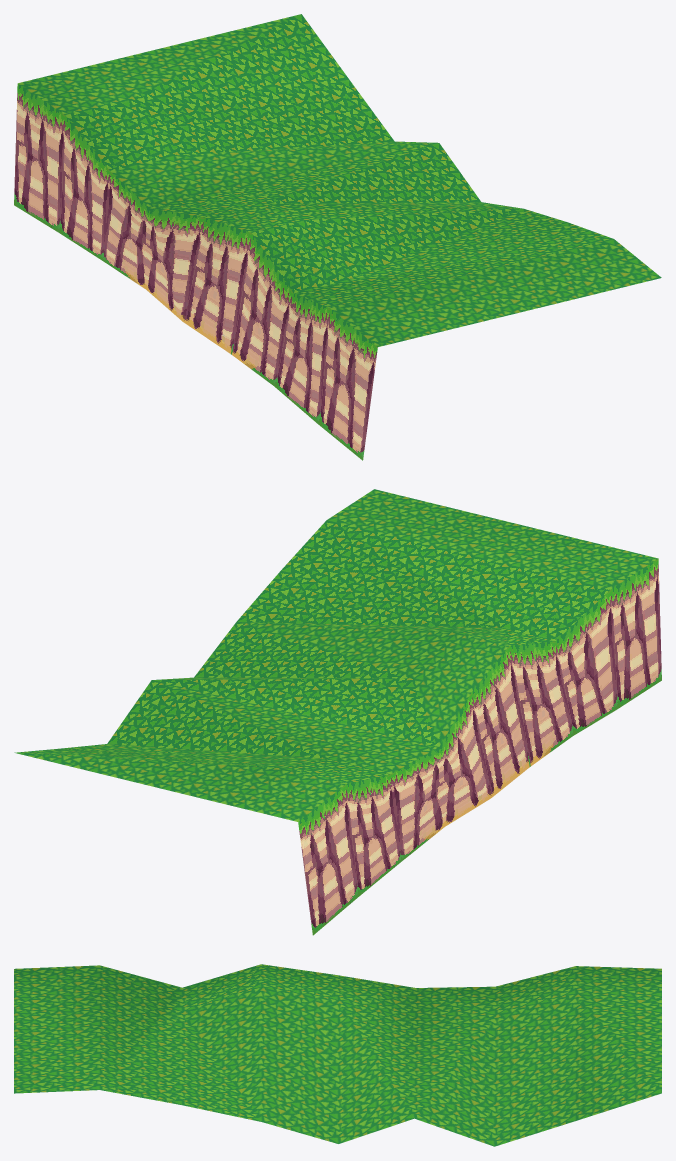
File: c_grd_e3_1.001.glb
The picture shows the model from 3 angles, top to bottom: view 1: azimuth 30°, elevation 25°; view 2: azimuth 150°, elevation 25°; view 3: azimuth 270°, elevation 25°; orthographic projection. The views are drawn at different scales.
Parts seen in each view (by area): view 1: c_grd_e3_1.001; view 2: c_grd_e3_1.001; view 3: c_grd_e3_1.001.
Boxes of the visible parts, x1,y1,x2,y2 form: c_grd_e3_1.001: (14,14,661,460); c_grd_e3_1.001: (14,489,661,935); c_grd_e3_1.001: (14,964,661,1146).
Bounding box in the file's own units: 16.25 × 6.59 × 34.05.
Materials: 4 (4 with a texture image).
